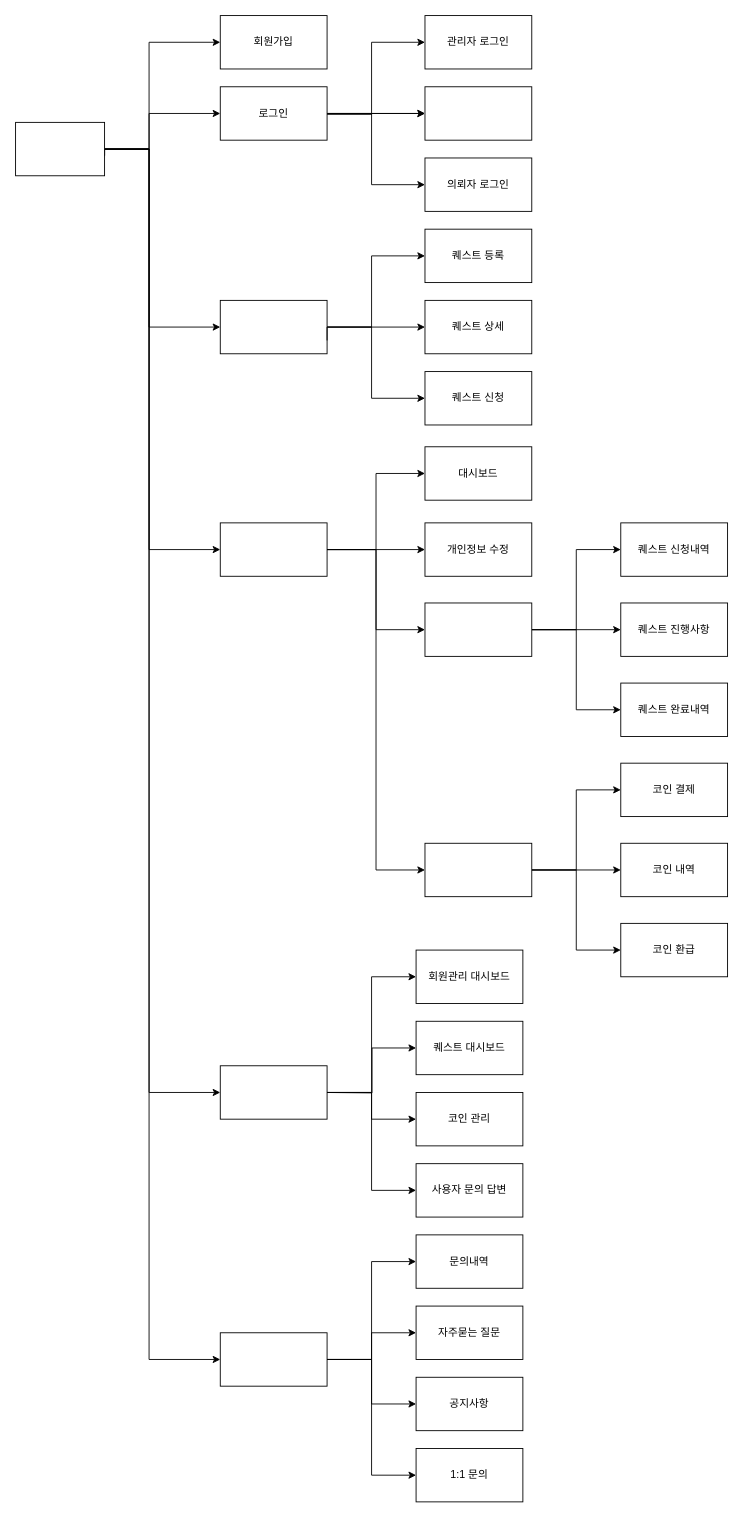
Image size: 743x1517. Some labels were removed from this diagram. The box of each missing label's shape, as (x1, y1, x2, y2) in pixels:
고객센터: (219, 1332, 327, 1386)
관리자페이지: (219, 1065, 327, 1119)
마이 퀘스트: (424, 602, 532, 656)
마이페이지: (219, 522, 327, 576)
메인페이지: (15, 121, 105, 176)
코인 페이지: (424, 842, 532, 897)
퀘스트 목록: (219, 299, 327, 354)
해결사 로그인: (424, 86, 532, 140)
